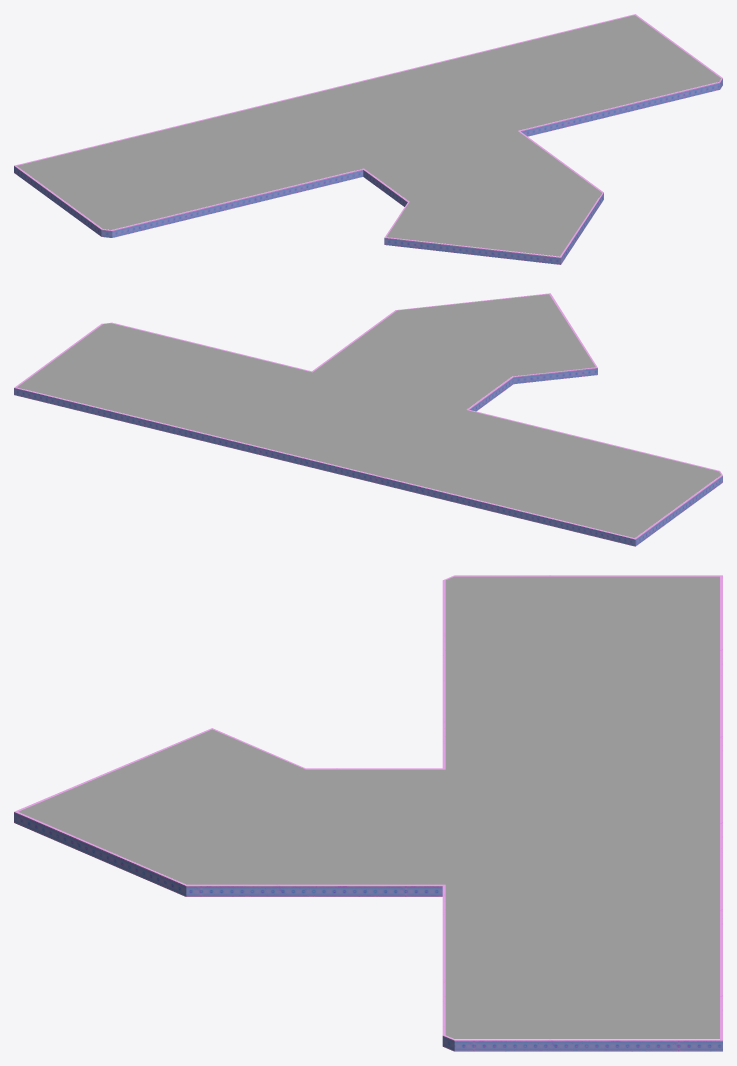
The model's file is LaunchPower_01_SM_Low.fbx.
3 renders of one model, top to bottom at view 1: azimuth 30°, elevation 25°; view 2: azimuth 150°, elevation 25°; view 3: azimuth 270°, elevation 25°, orthographic. The views are drawn at different scales.
Parts seen in each view (by area): view 1: GratedFloor, FloorSide; view 2: GratedFloor, FloorSide; view 3: GratedFloor, FloorSide.
Part boxes in pixels (<box>): GratedFloor: <box>17,15,720,256</box>; FloorSide: <box>14,14,722,264</box>; GratedFloor: <box>17,294,720,538</box>; FloorSide: <box>14,293,722,546</box>; GratedFloor: <box>18,576,719,1038</box>; FloorSide: <box>14,575,722,1051</box>.
Size of the model in its own units: 1570 by 17.66 by 1011.
Materials: 2 (1 with a texture image).
